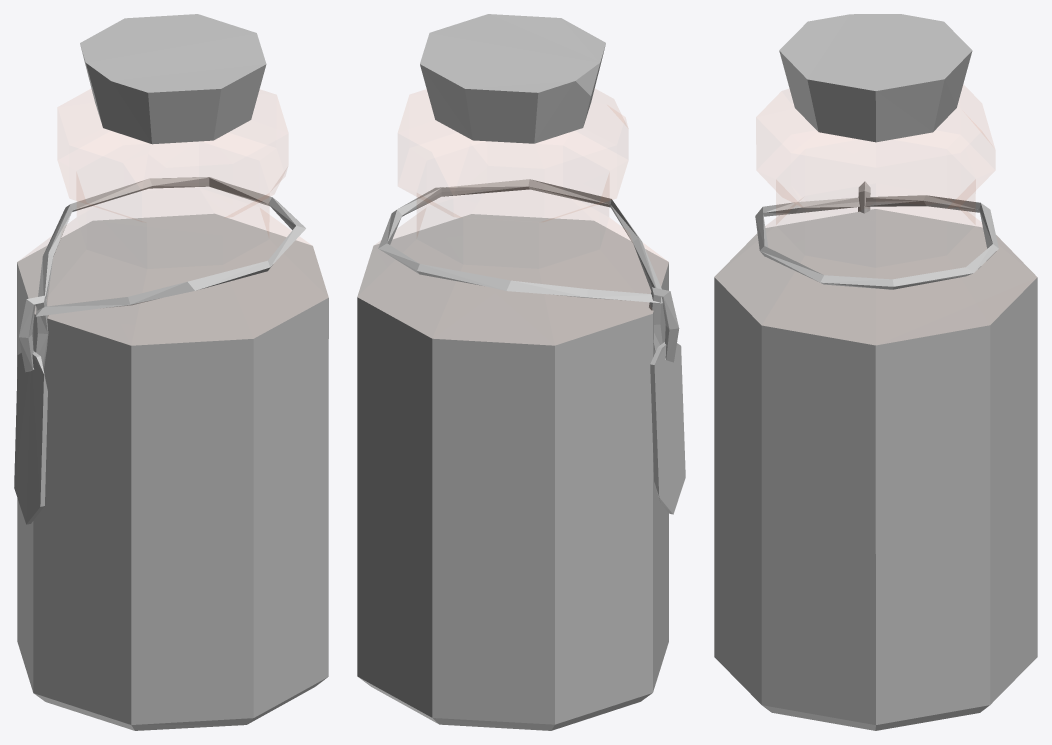
The model's file is SFI_Jar_008.fbx.
The picture shows the model from 3 angles, left to right: view 1: azimuth 30°, elevation 25°; view 2: azimuth 150°, elevation 25°; view 3: azimuth 270°, elevation 25°; orthographic projection.
Visible parts, largest first — view 1: SFI_Jar_008; view 2: SFI_Jar_008; view 3: SFI_Jar_008.
Boxes of the visible parts, <box> form: SFI_Jar_008: <box>14,14,328,730</box>; SFI_Jar_008: <box>357,14,685,730</box>; SFI_Jar_008: <box>714,14,1037,730</box>.
Size of the model in its own units: 8.99 by 17.68 by 8.38.
